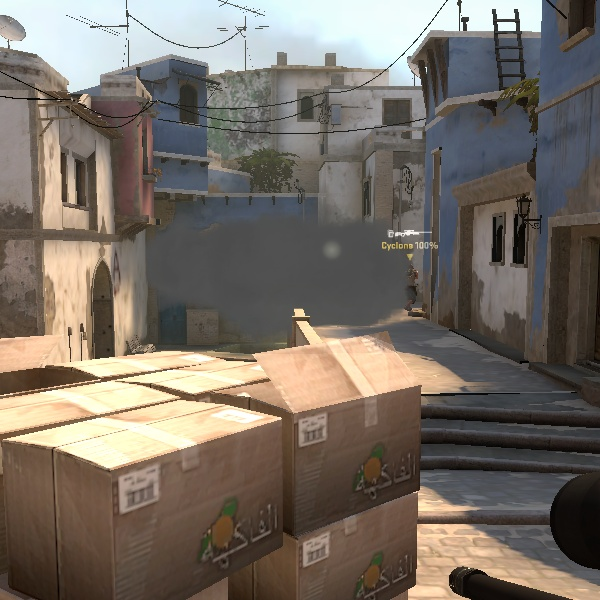t_body: (400, 260, 424, 313)
